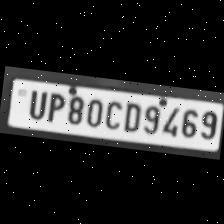0: (82, 93, 104, 126)
4: (159, 100, 180, 136)
6: (176, 103, 198, 138)
8: (62, 92, 86, 125)
9: (196, 106, 220, 140), (138, 100, 161, 134)
C: (102, 95, 122, 129)
D: (120, 97, 142, 132)
P: (42, 88, 66, 122)
U: (22, 86, 47, 119)
